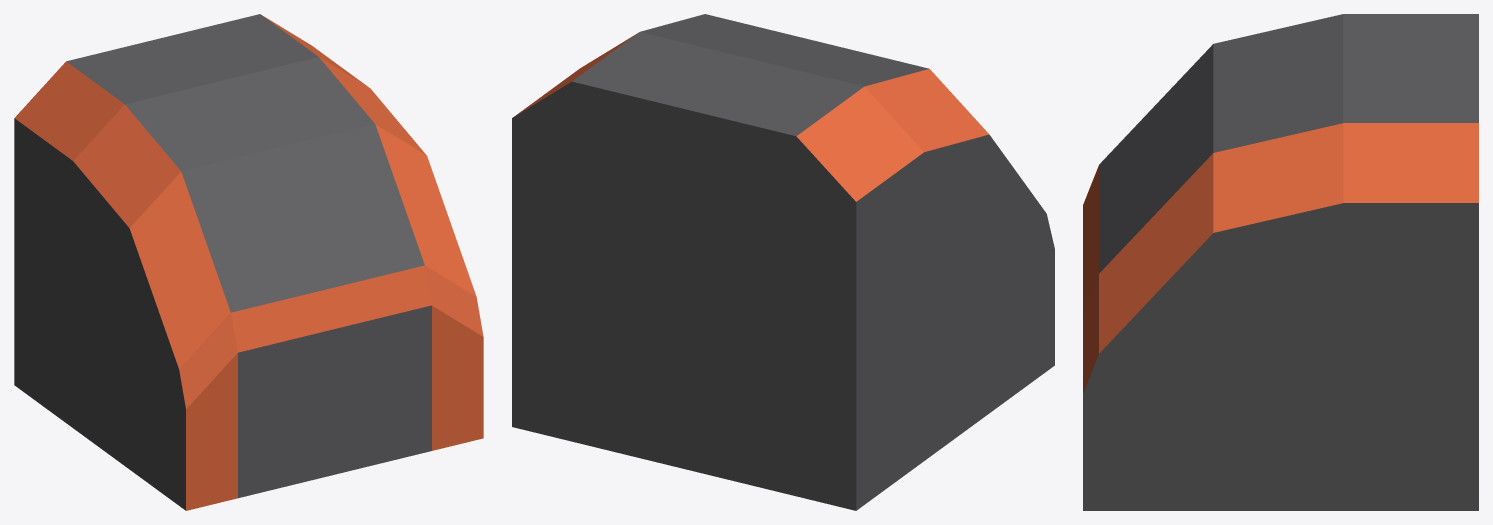
Rendered from precision assembler.glb.
3 views of the same model, side by side, from view 1: azimuth 30°, elevation 25°; view 2: azimuth 150°, elevation 25°; view 3: azimuth 270°, elevation 25° (orthographic). The views are drawn at different scales.
Parts seen in each view (by area): view 1: 立方体; view 2: 立方体; view 3: 立方体.
Boxes of the visible parts, x1=… form: 立方体: x1=14, y1=14, x2=483, y2=510; 立方体: x1=512, y1=14, x2=1054, y2=510; 立方体: x1=1083, y1=14, x2=1478, y2=510.
Size of the model in its own units: 200 by 200 by 200.
